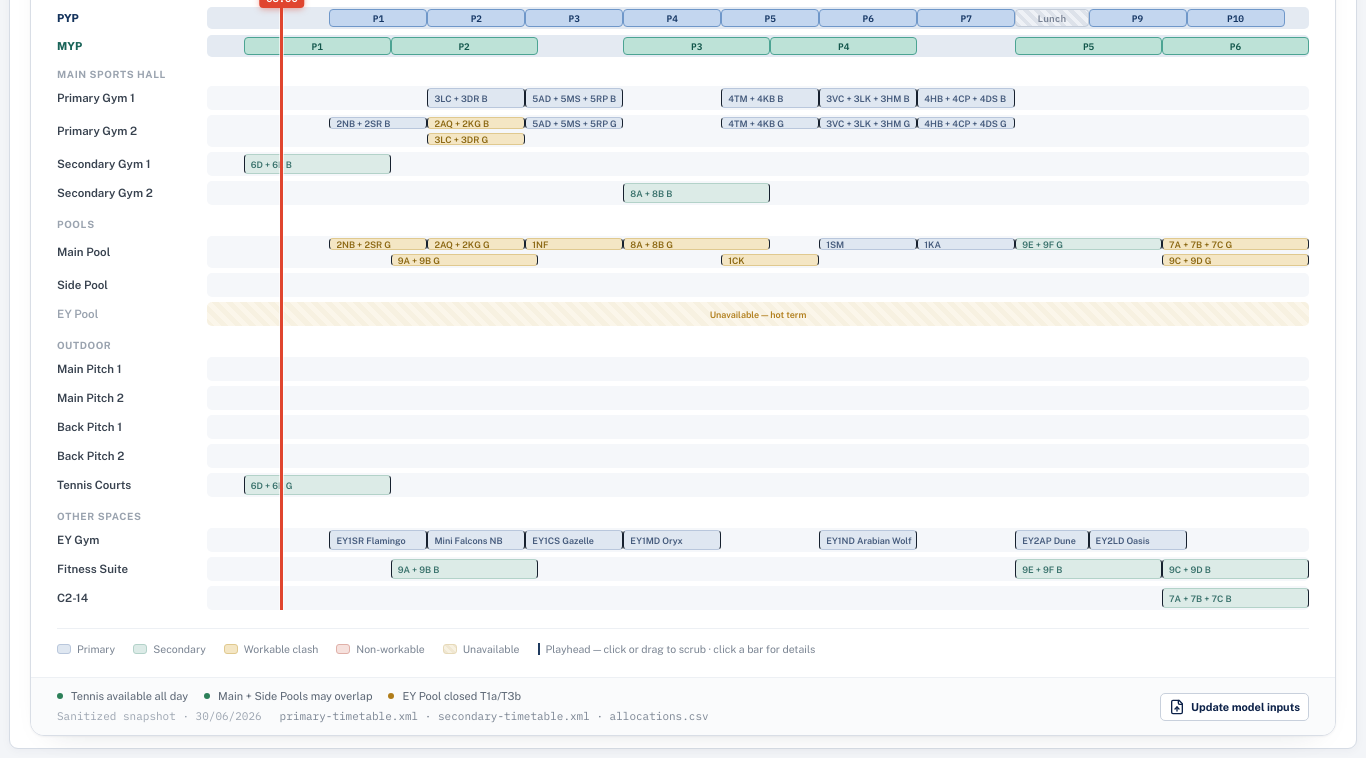
Test: PHE Space Simulator › accepts allocation CSV or both XML exports before regeneration
(page scrolled)
Click the button "Update model inputs" at (1235, 706), box [1160,692,1309,720]
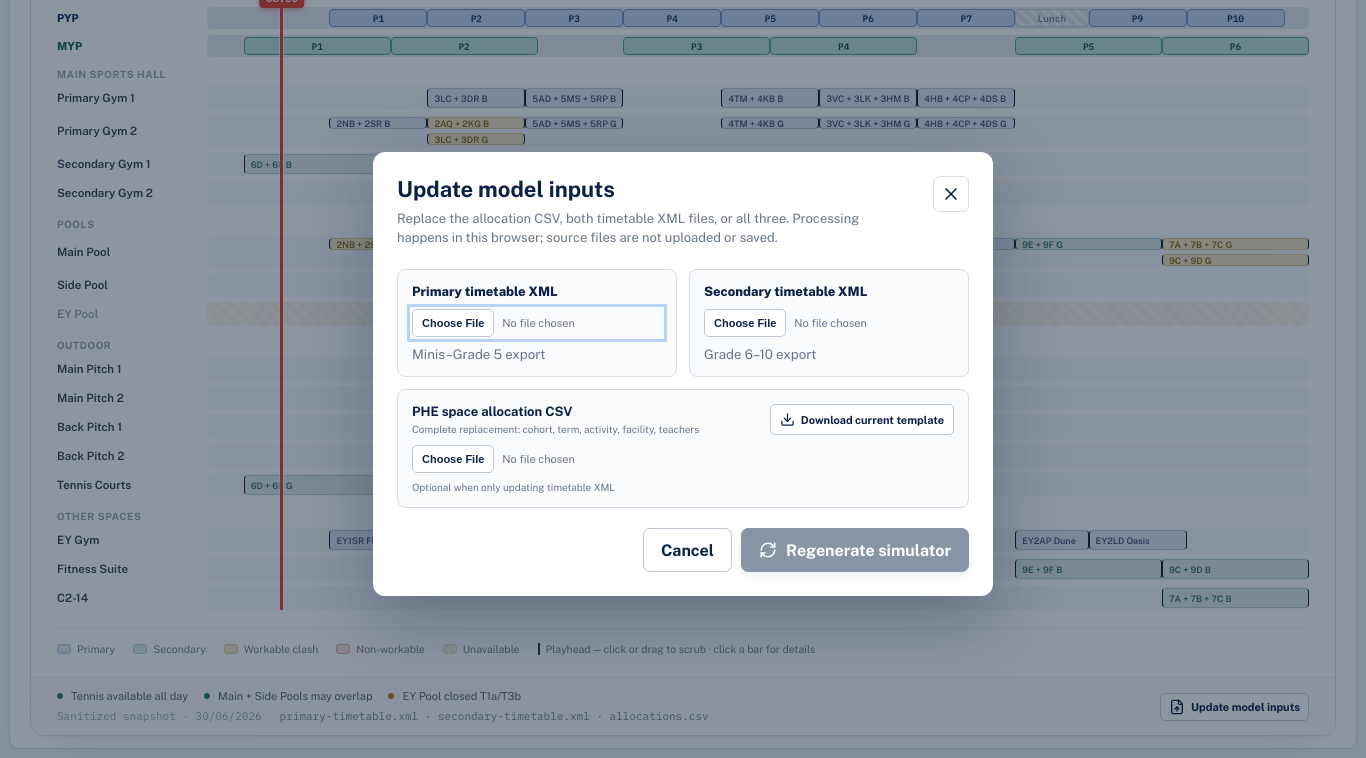
Expected: the dialog "Update model inputs" is shown, [373,152,993,596]
Expected: the file field labelled "Primary timetable XML" is shown, [412,309,662,337]
Expected: the file field labelled "Secondary timetable XML" is shown, [704,309,954,337]
